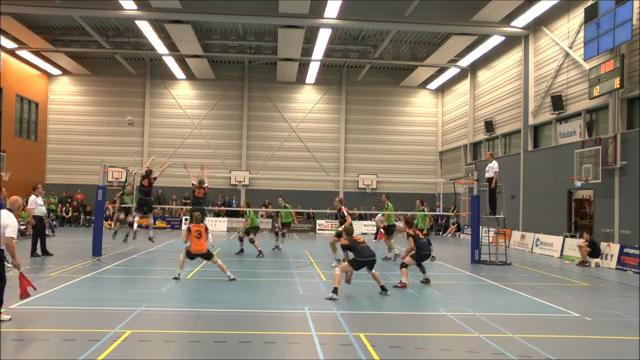Attack: (111, 151, 136, 248)
Block: (131, 152, 171, 243), (181, 158, 213, 243)
Player: (325, 224, 388, 299), (173, 212, 236, 280), (394, 216, 432, 288), (235, 200, 263, 257), (330, 197, 351, 266), (272, 196, 296, 250), (382, 194, 398, 260), (414, 199, 427, 235)
ball: (126, 116, 133, 124)
